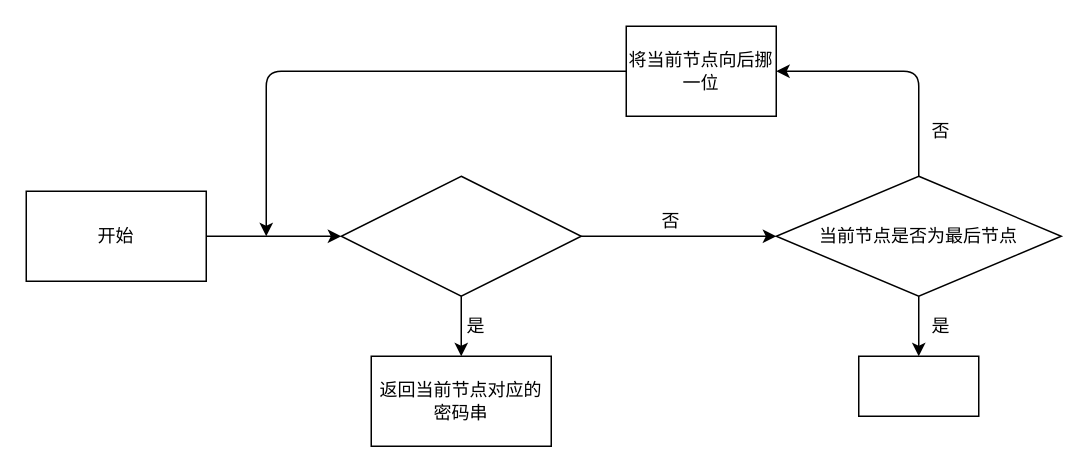
Image size: 1088x473. Some labels were removed from this diagram. The shapes that lost their labels are listed below. From the top down, each one's centre as x and y in pixels, then its label:
At (460,235): "当前节点的账号是否为输入的账号".
At (918,385): "输出NULL".
